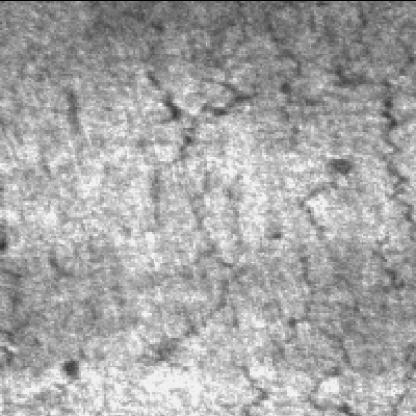crazing: (162, 144, 414, 406), (140, 8, 262, 240), (341, 6, 416, 312)
